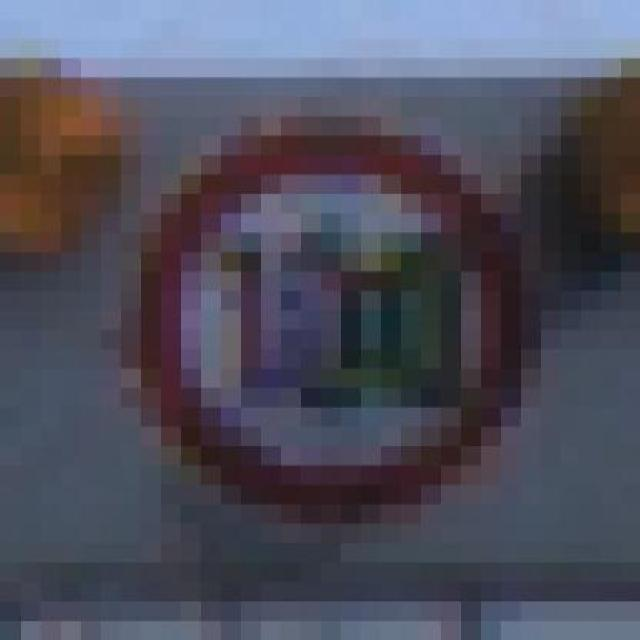forb_speed_over_100: (148, 124, 526, 515)
